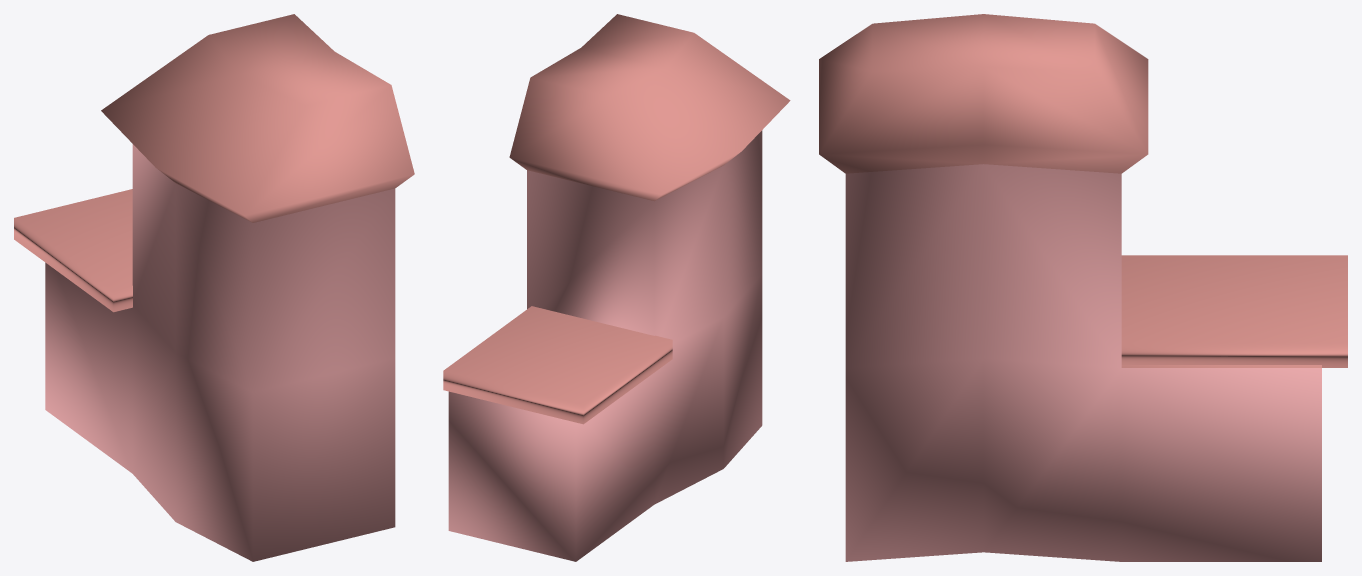
The model's file is Building_B_6.fbx.
3 views of the same model, side by side, from view 1: azimuth 30°, elevation 25°; view 2: azimuth 150°, elevation 25°; view 3: azimuth 270°, elevation 25° (orthographic). The views are drawn at different scales.
Visible parts, largest first — view 1: Building_B_6; view 2: Building_B_6; view 3: Building_B_6.
Boxes of the visible parts, left/top/right/bottom form: Building_B_6: left=14, top=14, right=414, bottom=561; Building_B_6: left=443, top=14, right=790, bottom=561; Building_B_6: left=819, top=14, right=1347, bottom=561.
Size of the model in its own units: 126 by 277 by 269.
